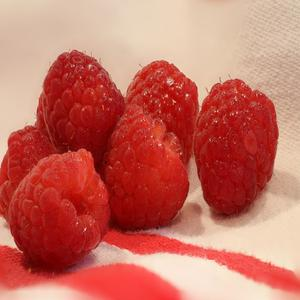raspb: (2, 36, 300, 266)
